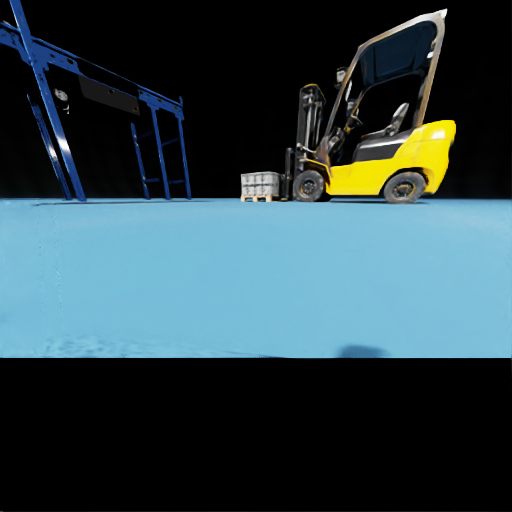transportation_area: (255, 184, 282, 194), (19, 41, 22, 43), (51, 54, 53, 56), (18, 37, 20, 38)
